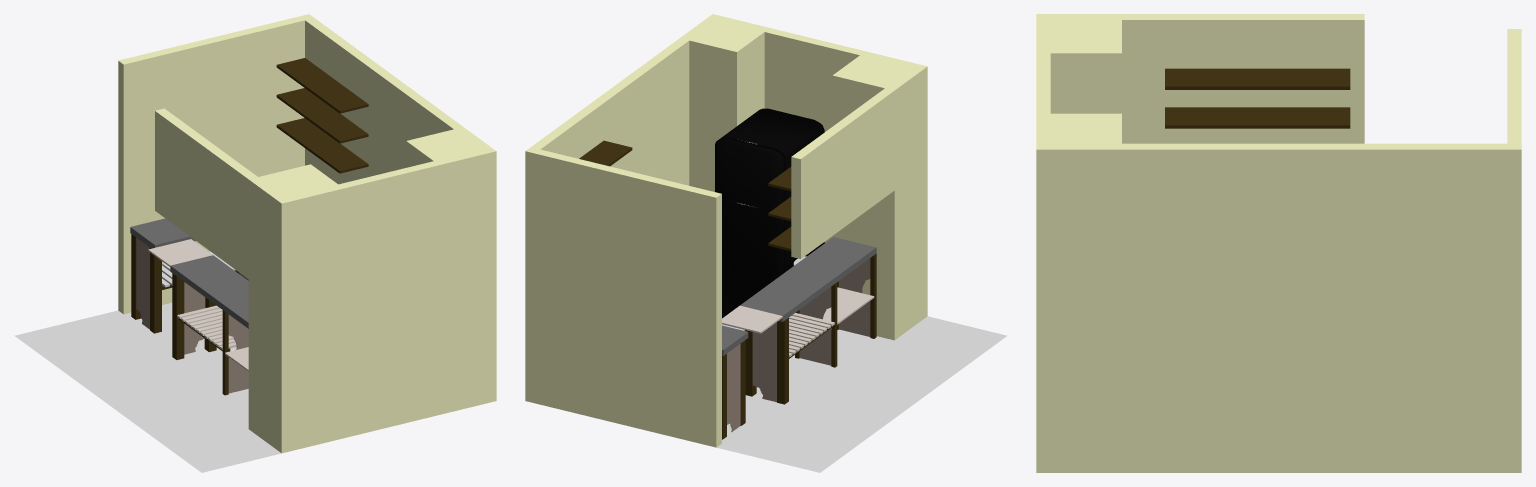
File: environment_test.fbx
The picture shows the model from 3 angles, left to right: view 1: azimuth 30°, elevation 25°; view 2: azimuth 150°, elevation 25°; view 3: azimuth 270°, elevation 25°; orthographic projection. The views are drawn at different scales.
Parts seen in each view (by area): view 1: Walls, Floor, Cube.024, Cube.046, Cube.044, Cube.045, Cube.037, Cube, Cube.005, Cube.030, Cube.031, Cube.038 (+4 smaller); view 2: Walls, Floor, Main Door, Cube.024, Freezer Door, Body, Cube.033, Cube.027, Cube.030, Cube.037, Cube.005, Cube.038 (+8 smaller); view 3: Walls, Cube.042, Cube.043.
Part boxes in pixels (x1,y1,x2,y2): Walls: [118, 14, 496, 453]; Floor: [14, 302, 281, 472]; Cube.024: [170, 255, 248, 328]; Cube.046: [276, 58, 368, 113]; Cube.044: [276, 118, 368, 173]; Cube.045: [276, 88, 368, 143]; Cube.037: [177, 305, 236, 349]; Cube: [130, 218, 195, 248]; Cube.005: [136, 237, 149, 329]; Cube.030: [228, 314, 248, 393]; Cube.031: [172, 273, 184, 359]; Cube.038: [148, 239, 212, 266]; Walls: [525, 14, 927, 447]; Floor: [717, 316, 1007, 472]; Main Door: [722, 199, 784, 318]; Cube.024: [740, 237, 876, 321]; Freezer Door: [715, 137, 784, 210]; Body: [720, 108, 824, 271]; Cube.033: [752, 322, 776, 402]; Cube.027: [839, 258, 870, 336]; Cube.030: [799, 287, 831, 365]; Cube.037: [789, 313, 834, 357]; Cube.005: [727, 344, 740, 432]; Cube.038: [722, 305, 782, 333]; Walls: [1036, 14, 1521, 472]; Cube.042: [1165, 107, 1350, 128]; Cube.043: [1165, 68, 1350, 89].
Bounding box in the file's own units: 309 × 250 × 340.
